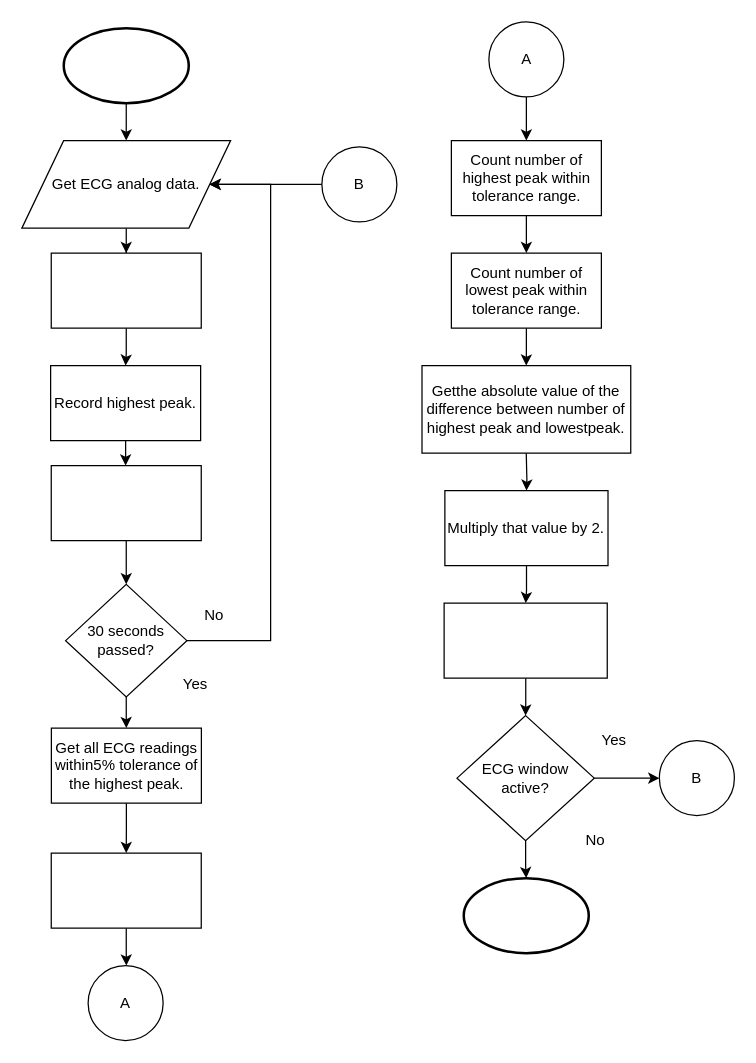
Image size: 756x1063. Some labels were removed from this diagram. Here are the shapes that lost their labels. From the top down, the box of each, then its label:
(62, 26, 189, 104): Start
(50, 252, 201, 328): Add ECG data to list.
(50, 464, 201, 541): Record lowest peak.
(443, 602, 607, 678): Output respiratory rate.
(50, 852, 201, 928): Get all ECG readings within5% tolerance of the lowest peak.
(462, 876, 589, 954): End
